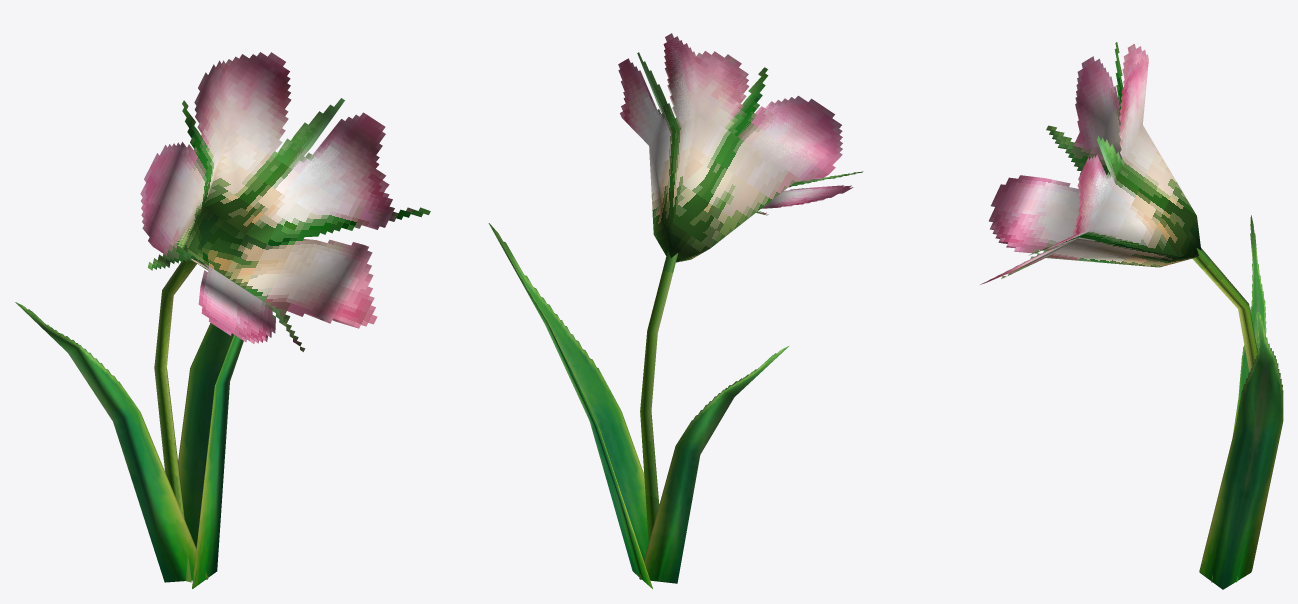
Rendered from Flower1_2.obj.
The picture shows the model from 3 angles, left to right: view 1: azimuth 30°, elevation 25°; view 2: azimuth 150°, elevation 25°; view 3: azimuth 270°, elevation 25°; orthographic projection. The views are drawn at different scales.
Bounding box in the file's own units: 10 × 15.84 × 8.86.
3 materials, 3 textured.
